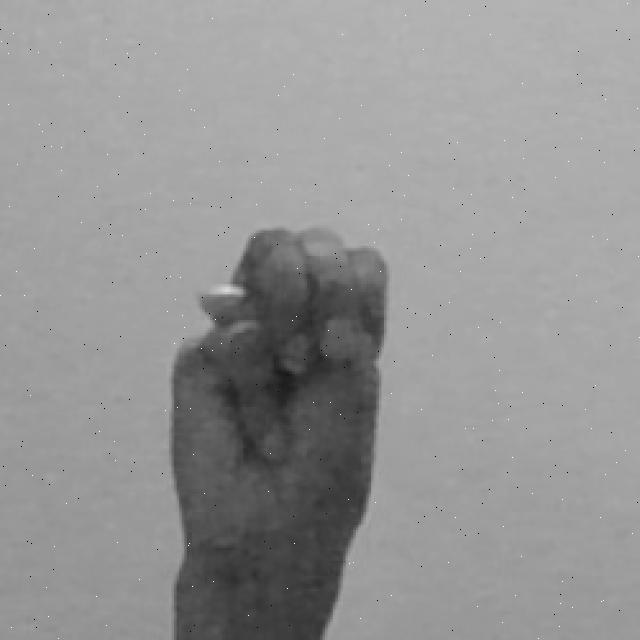M: (156, 217, 394, 640)
